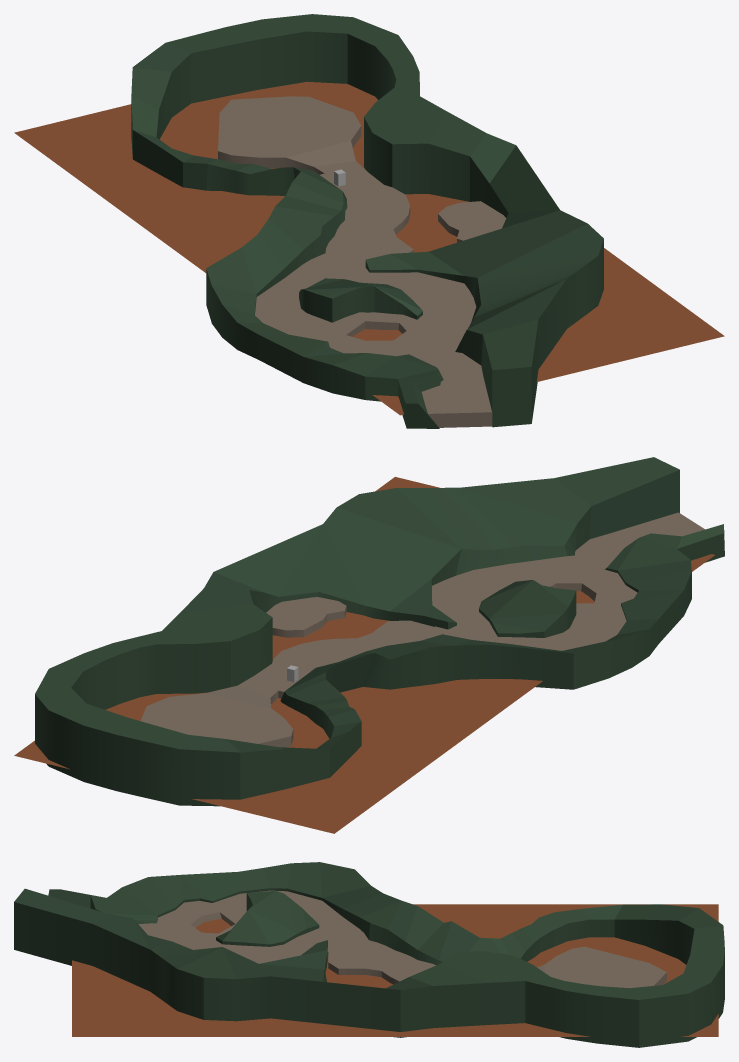
The model's file is Firepath.fbx.
3 views of the same model, one above another, from view 1: azimuth 30°, elevation 25°; view 2: azimuth 150°, elevation 25°; view 3: azimuth 270°, elevation 25° (orthographic). The views are drawn at different scales.
Visible parts, largest first — view 1: polySurface1, pPlane1, polySurface2; view 2: polySurface1, polySurface2, pPlane1; view 3: polySurface1, pPlane1, polySurface2.
Boxes of the visible parts, x1,y1,x2,y2 form: polySurface1: (131, 14, 603, 428); pPlane1: (14, 81, 724, 415); polySurface2: (218, 96, 506, 427); polySurface1: (35, 457, 724, 806); polySurface2: (140, 512, 704, 747); pPlane1: (14, 477, 714, 833); polySurface1: (14, 862, 724, 1047); pPlane1: (72, 904, 718, 1036); polySurface2: (138, 890, 666, 988).
Size of the model in its own units: 14.1 by 2.1 by 26.94.
